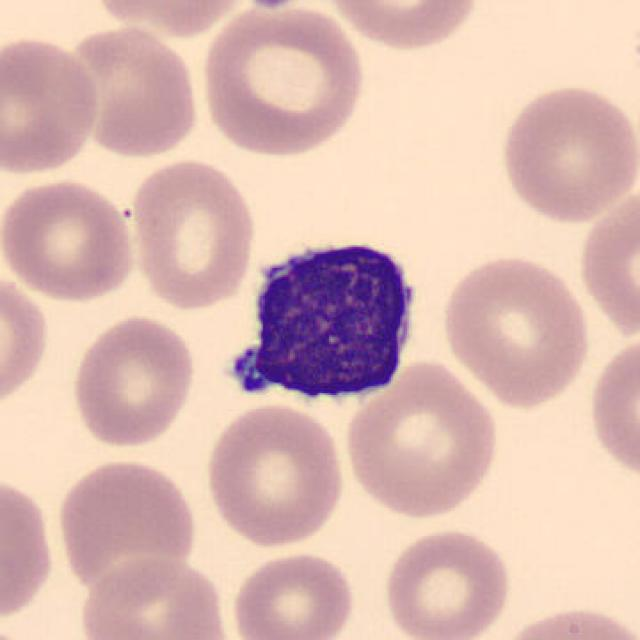Lymphocyte: (217, 215, 443, 424)
RBC: (200, 0, 372, 159), (340, 356, 503, 522), (438, 250, 596, 411), (201, 400, 348, 550), (53, 455, 201, 601), (124, 155, 260, 312), (494, 79, 638, 226), (59, 21, 202, 162), (68, 310, 199, 452), (0, 174, 140, 305), (378, 523, 515, 640), (0, 32, 103, 178), (74, 553, 234, 640), (228, 548, 359, 640), (574, 180, 638, 347), (0, 470, 59, 628), (316, 0, 482, 53), (585, 329, 638, 486), (0, 269, 53, 416), (89, 0, 258, 39), (494, 601, 638, 640)
